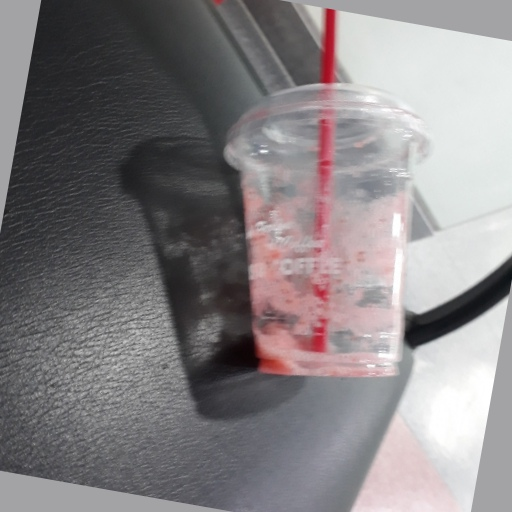Plastic_2: (226, 7, 430, 374)
